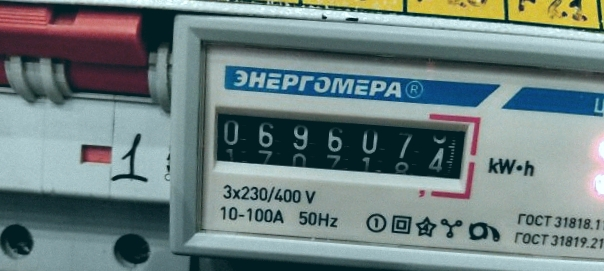0: (358, 124, 379, 155), (219, 116, 240, 146)
4: (426, 144, 444, 174)
6: (323, 123, 344, 154), (254, 118, 276, 147)
7: (394, 129, 413, 160)
9: (289, 122, 308, 151)
screen: (195, 88, 486, 198)
